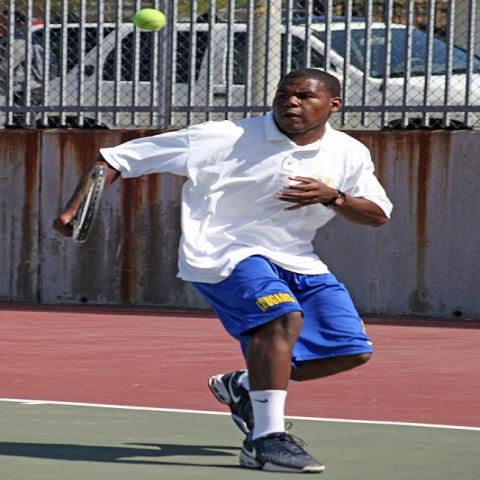truck: (28, 15, 479, 134)
